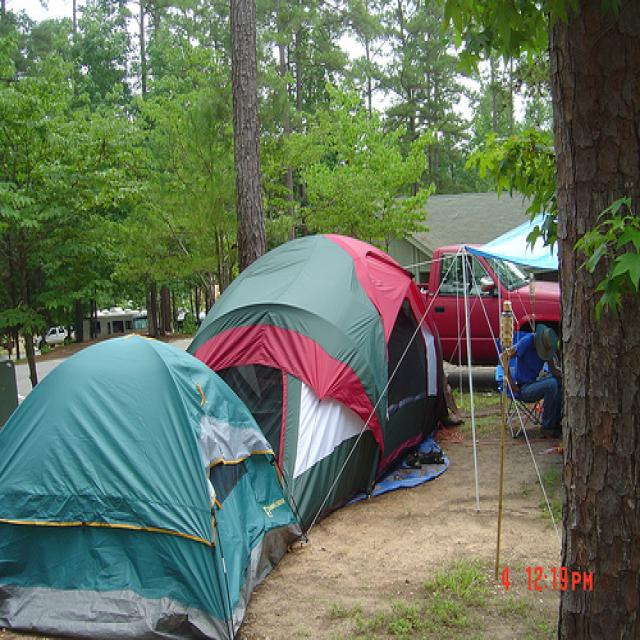light_vehicle: (414, 241, 560, 367)
